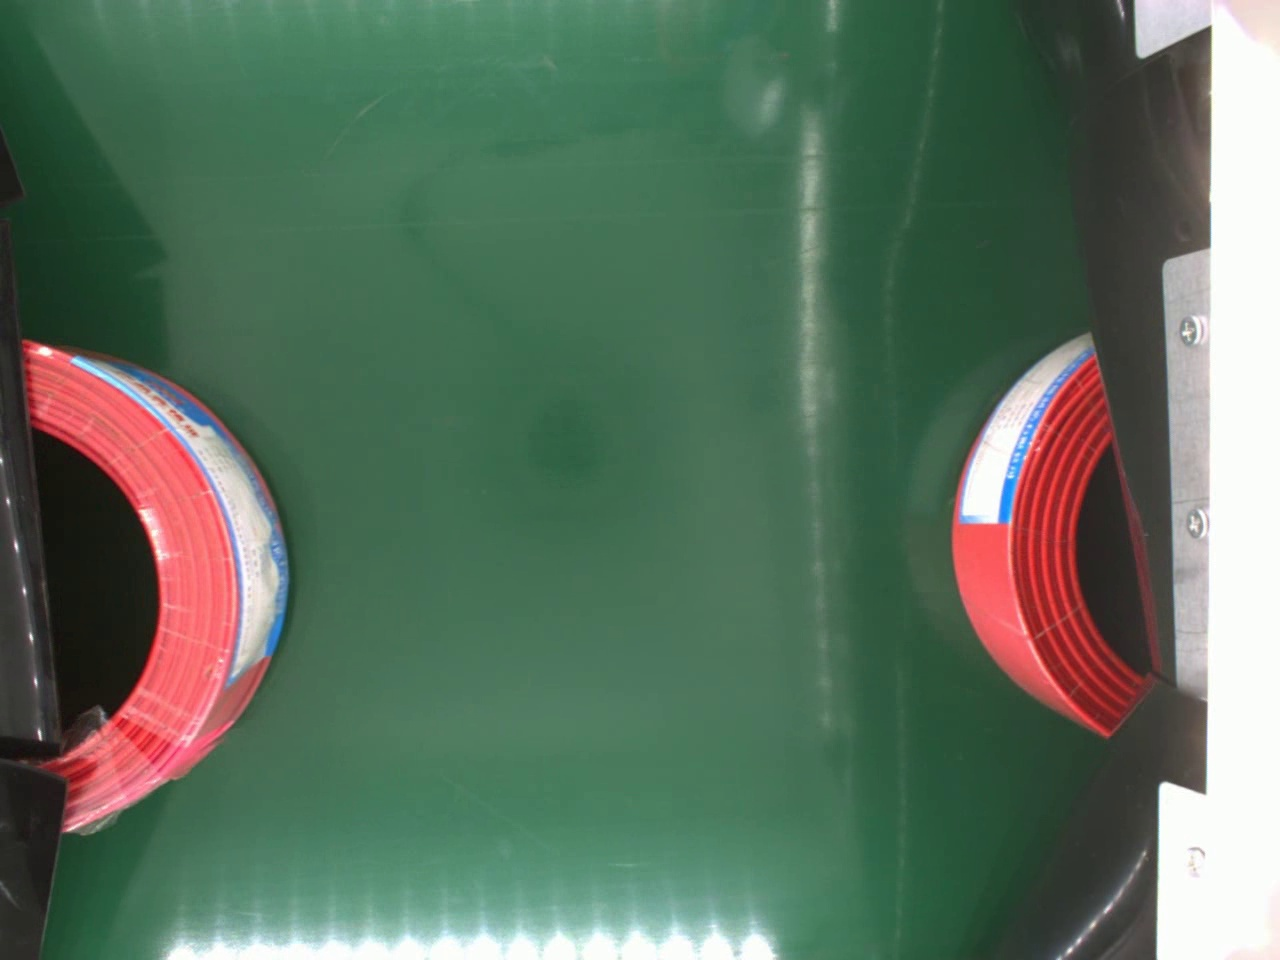red: (21, 337, 293, 835), (945, 331, 1146, 742)
